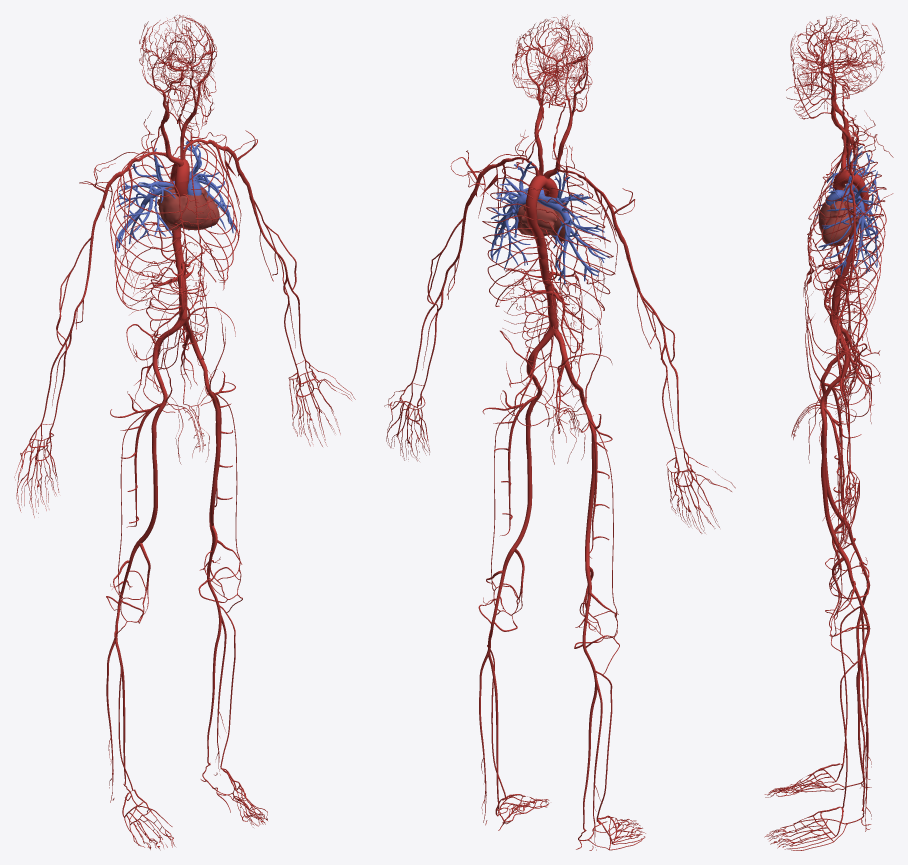
File: male-arterial.glb
3 renders of one model, left to right at view 1: azimuth 30°, elevation 25°; view 2: azimuth 150°, elevation 25°; view 3: azimuth 270°, elevation 25°, orthographic. The views are drawn at different scales.
Visible parts, largest first — view 1: Posterior_intercostal_arteries_R, Posterior_intercostal_arteries_L, Femoral_artery_R, Right_ventricle, Femoral_artery_L, Right_atrium; view 2: Posterior_intercostal_arteries_R, Posterior_intercostal_arteries_L, Femoral_artery_L, Femoral_artery_R, Thoracic_aorta; view 3: Posterior_intercostal_arteries_L, Femoral_artery_L, Left_ventricle, Posterior_intercostal_arteries_R, Femoral_artery_R, Abdominal_aorta, Posterior_tibial_artery_L, Brachial_artery_L, Fibular_artery_L, Posterior_tibial_artery_R, Popliteal_artery_L, Aortic_arch (+9 smaller).
Part boxes in pixels (box(x1,y1,x2,y2)): Posterior_intercostal_arteries_R: box(109, 155, 184, 310); Posterior_intercostal_arteries_L: box(172, 145, 238, 289); Femoral_artery_R: box(136, 379, 167, 545); Right_ventricle: box(174, 194, 211, 229); Femoral_artery_L: box(203, 368, 220, 527); Right_atrium: box(158, 186, 187, 230); Posterior_intercostal_arteries_R: box(530, 187, 615, 329); Posterior_intercostal_arteries_L: box(482, 177, 547, 306); Femoral_artery_L: box(510, 378, 542, 552); Femoral_artery_R: box(579, 389, 596, 569); Thoracic_aorta: box(526, 195, 547, 259); Posterior_intercostal_arteries_L: box(808, 171, 886, 323); Femoral_artery_L: box(820, 384, 847, 560); Left_ventricle: box(822, 214, 853, 246); Posterior_intercostal_arteries_R: box(808, 150, 886, 279); Femoral_artery_R: box(820, 362, 847, 524); Abdominal_aorta: box(829, 246, 852, 319); Posterior_tibial_artery_L: box(848, 662, 865, 823); Brachial_artery_L: box(835, 205, 855, 356); Fibular_artery_L: box(860, 662, 871, 831); Posterior_tibial_artery_R: box(848, 612, 865, 786); Popliteal_artery_L: box(844, 558, 870, 662); Aortic_arch: box(833, 170, 865, 189).
Size of the model in its own units: 0.7525 by 1.7 by 0.2481.
